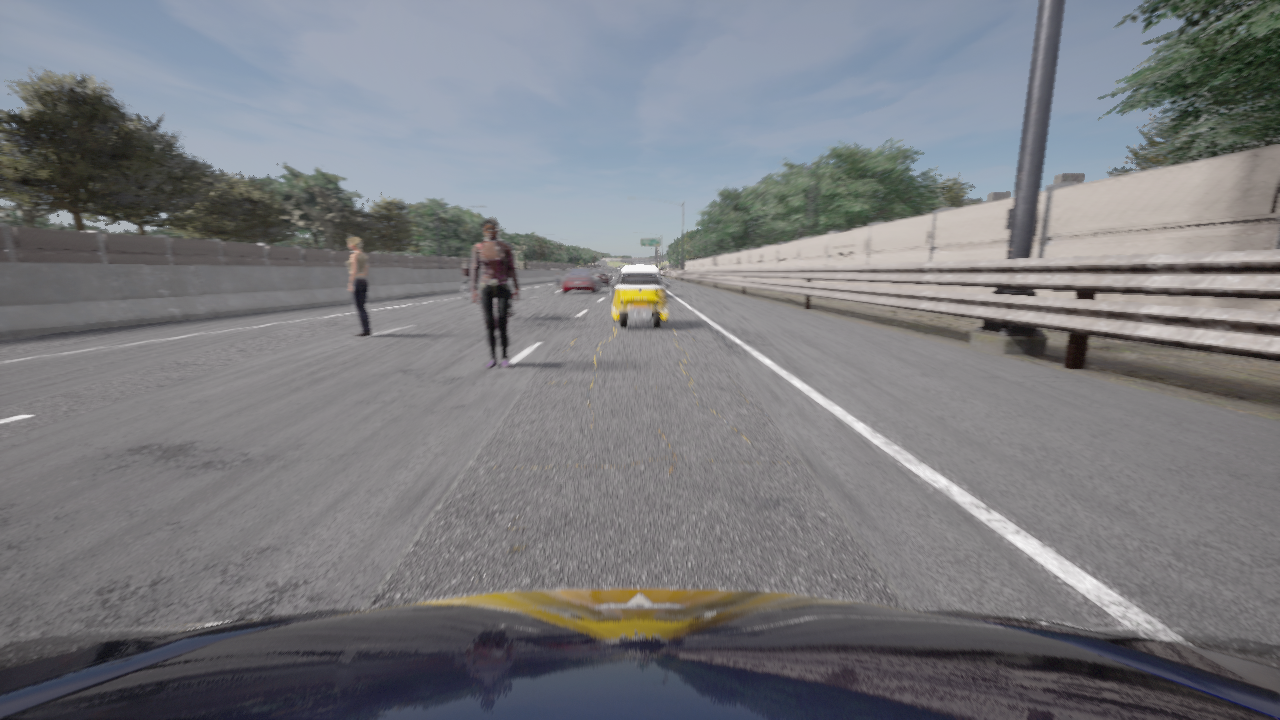cyclist: (0, 588, 1279, 719), (609, 266, 670, 328), (561, 270, 600, 293), (591, 269, 611, 286), (508, 281, 514, 316), (461, 283, 472, 302)
pedestrian: (471, 219, 519, 368), (347, 236, 371, 337), (556, 273, 559, 285)
